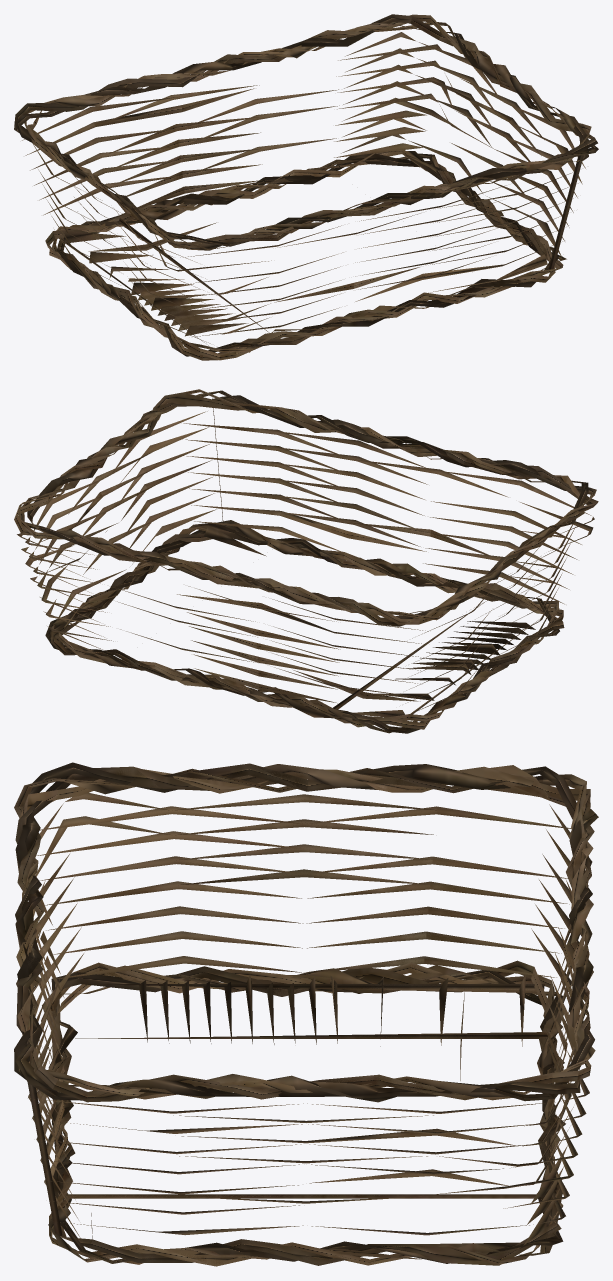
Rendered from wicker_basket_01.glb.
The picture shows the model from 3 angles, top to bottom: view 1: azimuth 30°, elevation 25°; view 2: azimuth 150°, elevation 25°; view 3: azimuth 270°, elevation 25°; orthographic projection. The views are drawn at different scales.
Visible parts, largest first — view 1: wicker_basket_01; view 2: wicker_basket_01; view 3: wicker_basket_01.
Boxes of the visible parts, x1,y1,x2,y2 form: wicker_basket_01: (14,14,598,360); wicker_basket_01: (14,389,598,733); wicker_basket_01: (14,762,598,1266).
Bounding box in the file's own units: 0.383 × 0.1172 × 0.2928.
1 material, 1 textured.
